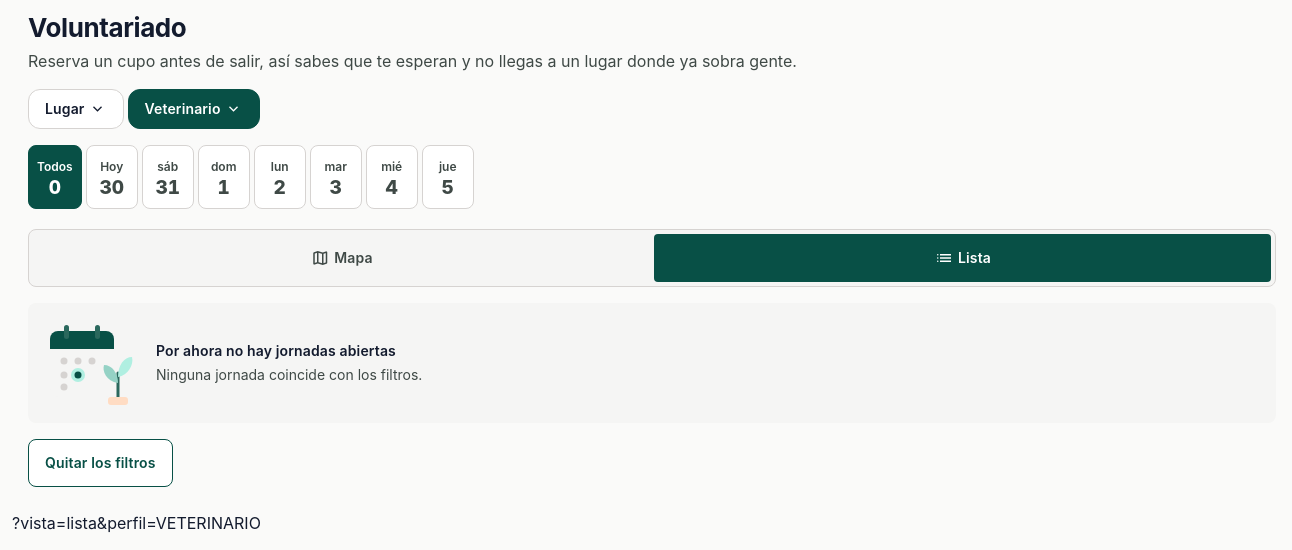
«Quitar los filtros» conserva la vista
Click the button "Quitar los filtros": {"x": 100, "y": 463} [28, 439, 173, 487]
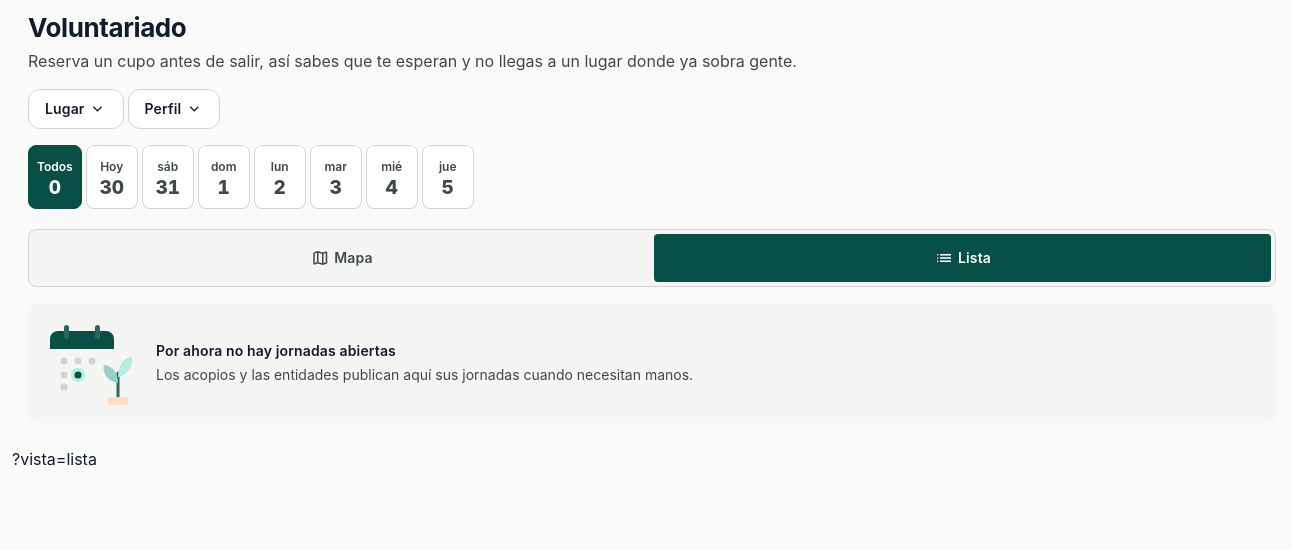
Expected: the text with test id "busqueda" reads "?vista=lista", [12, 449, 97, 469]
